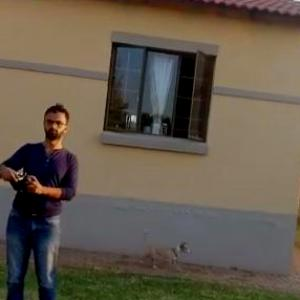follow: (0, 98, 88, 299)
null: (133, 224, 194, 270)
